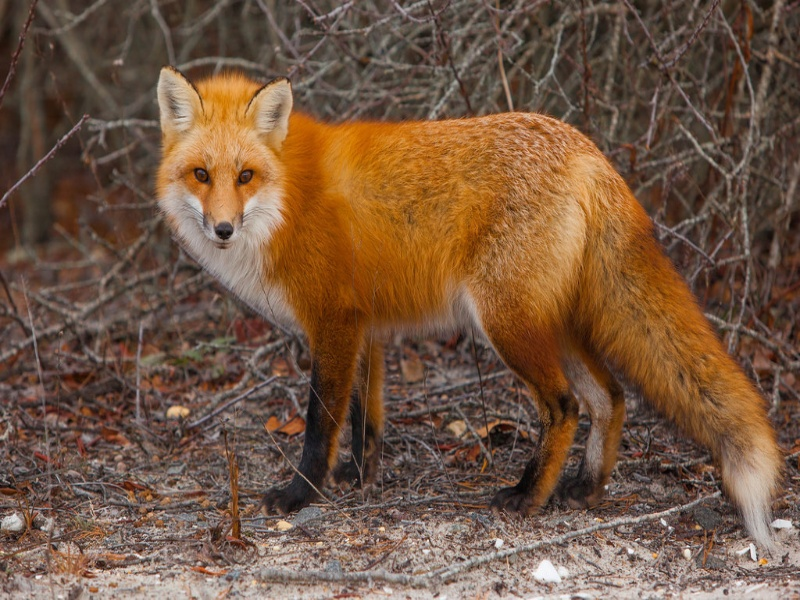fox: (150, 60, 781, 548)
